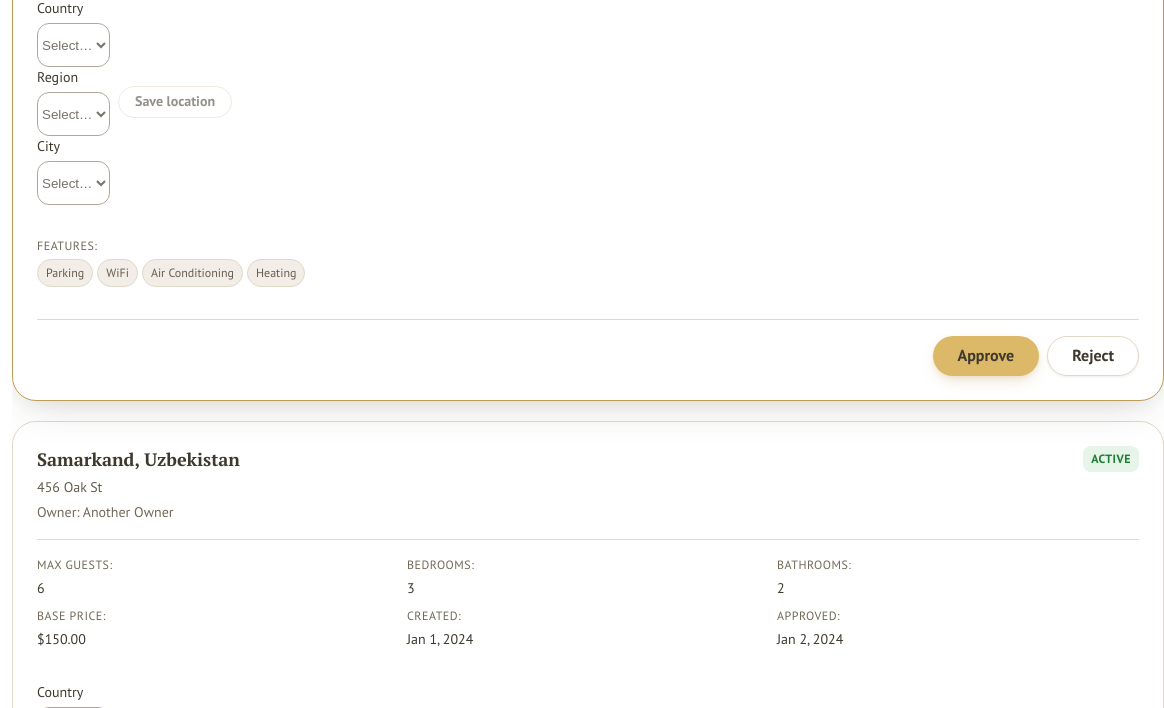
Test: AdminPropertyModeration › tells the admin which parts are missing when approval is refused
The width and height of the screenshot is (1164, 708).
(page scrolled)
Click the button "Approve": {"x": 986, "y": 356} [932, 336, 1039, 376]
(page scrolled)
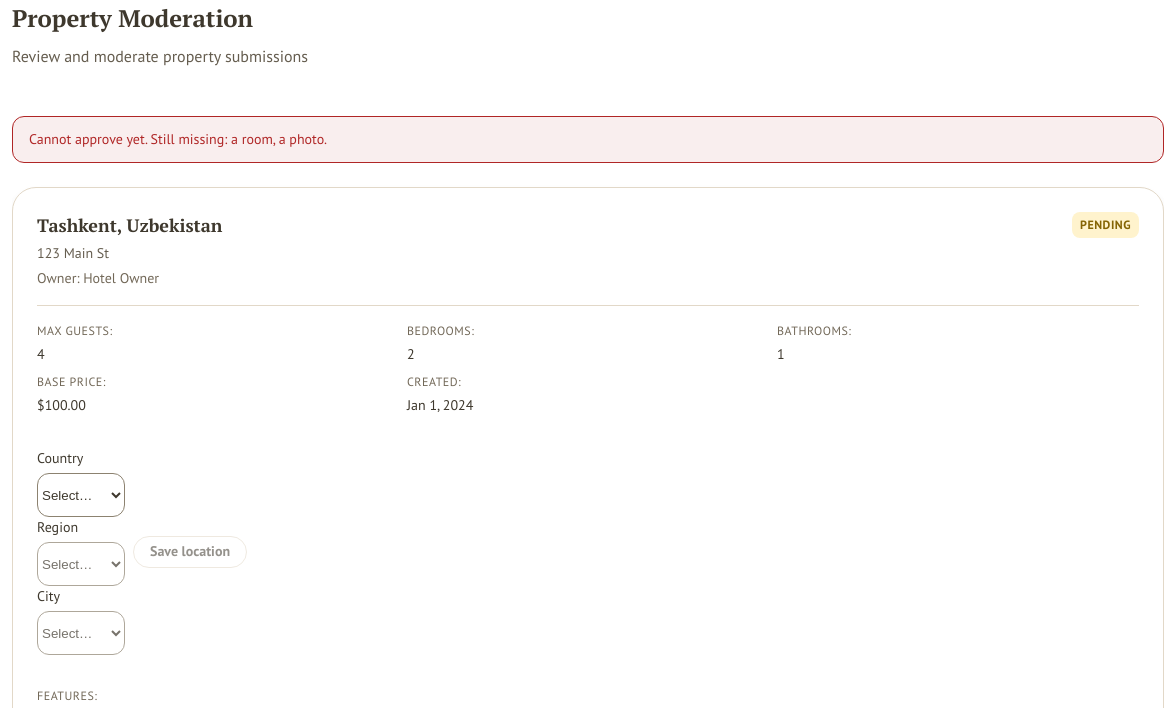
Now the message reads "Cannot approve yet. Still missing: a room, a photo.", box [29, 130, 327, 148]
